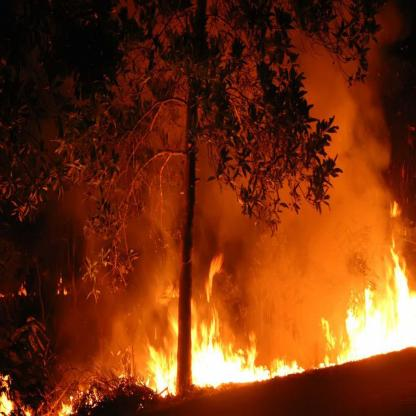fire: (150, 292, 300, 383), (325, 230, 415, 354)
